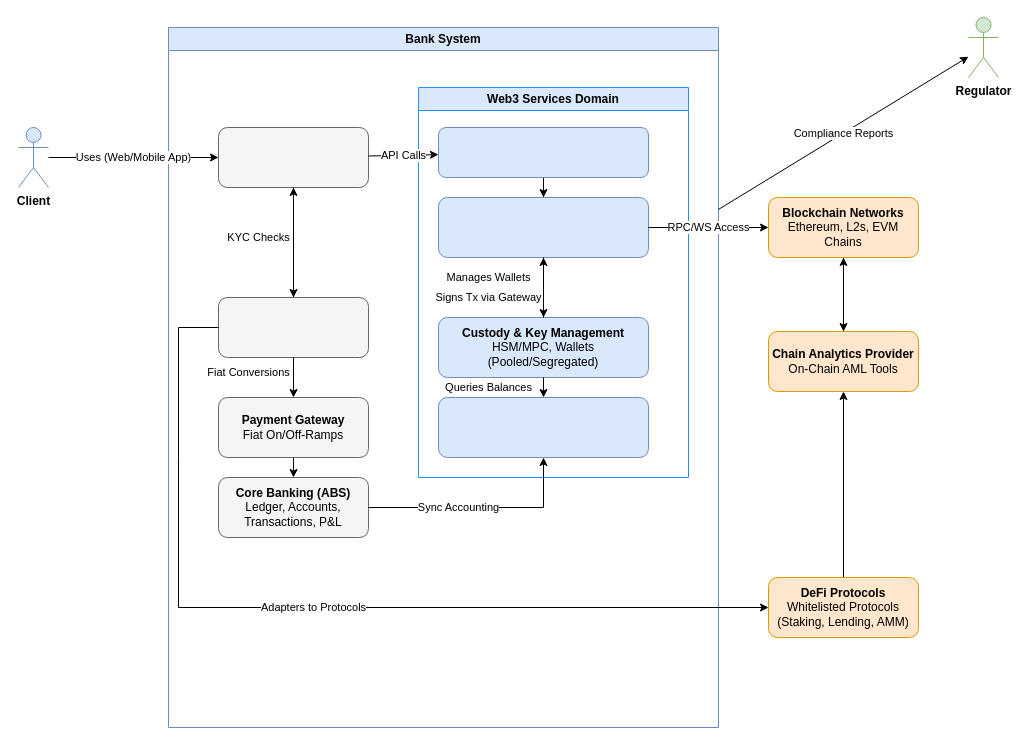
This 1029x745 diagram has some shape labels left out. The centre of each missing label's shape, as x and y in pixels:
Client Web3 Services API/SDK for Frontends (Wallet, Portfolio, Tx): point (543, 152)
CRM & KYC/AML Customer Data, Compliance Checks: point (293, 327)
Frontends (Web/Mobile) User Interfaces: point (293, 157)
Web3 Gateway Blockchain Access Layer (Nodes, RPC, API): point (543, 227)
Web3 Ledger & Accounting Subledger, Sync with Core (On-Chain Positions): point (543, 427)
